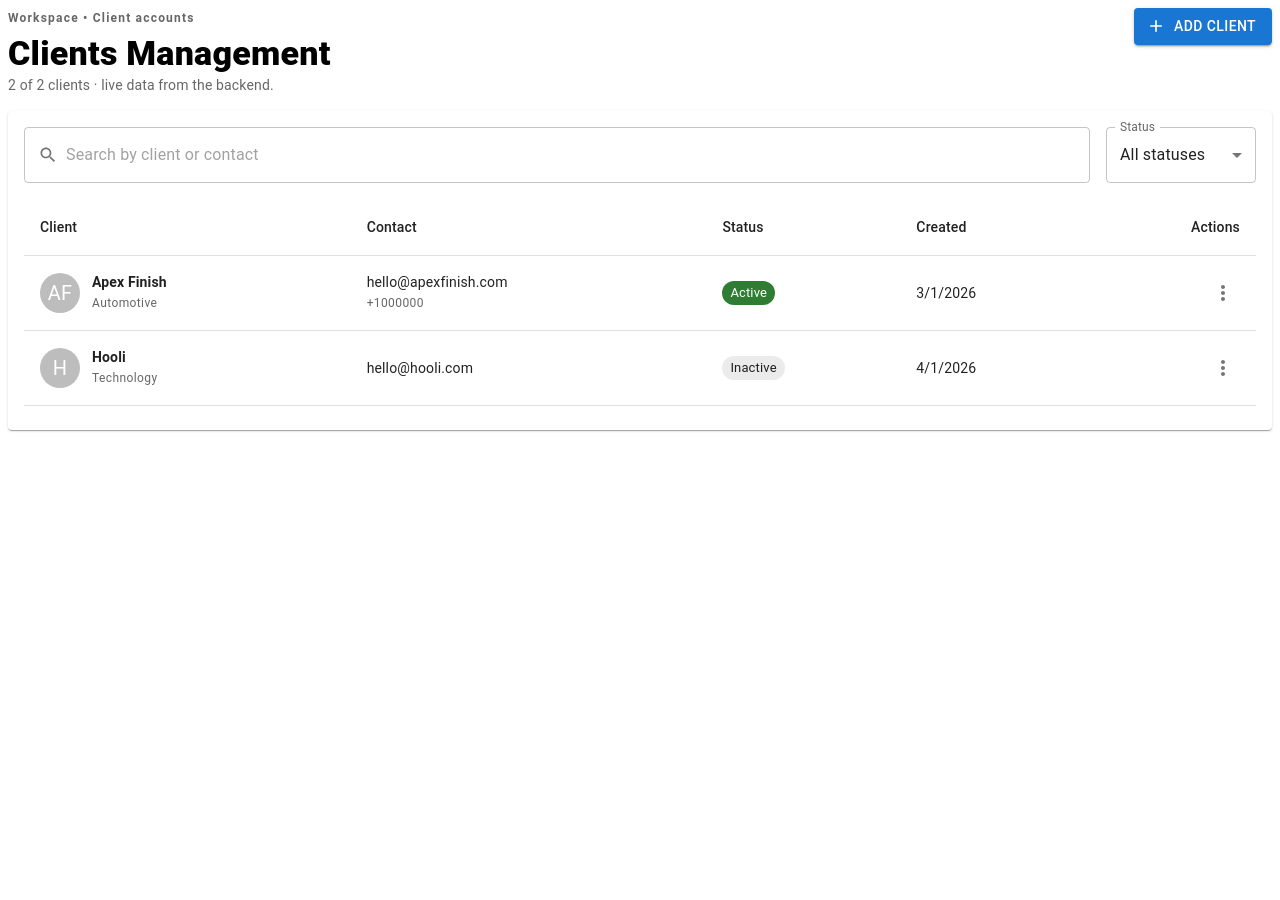
ClientsPage › creates a client through the API
Expected: the text "Apex Finish" is shown, [92,272,167,292]
Click the button "Add client" at {"x": 1203, "y": 26}, box [1134,8,1272,44]
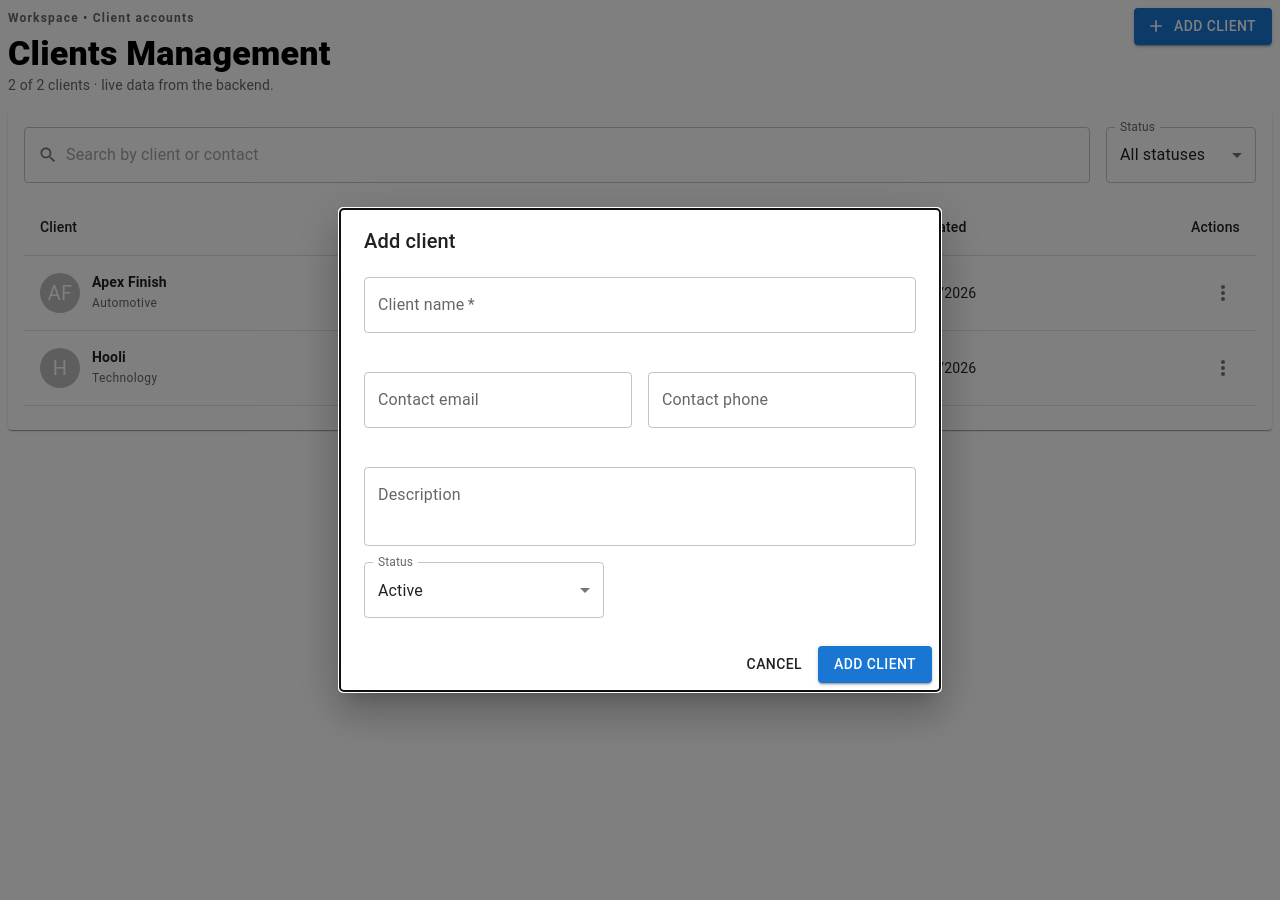
Type "NewCo" into the field labelled "Client name *" at {"x": 640, "y": 305}, box [364,277,916,333]
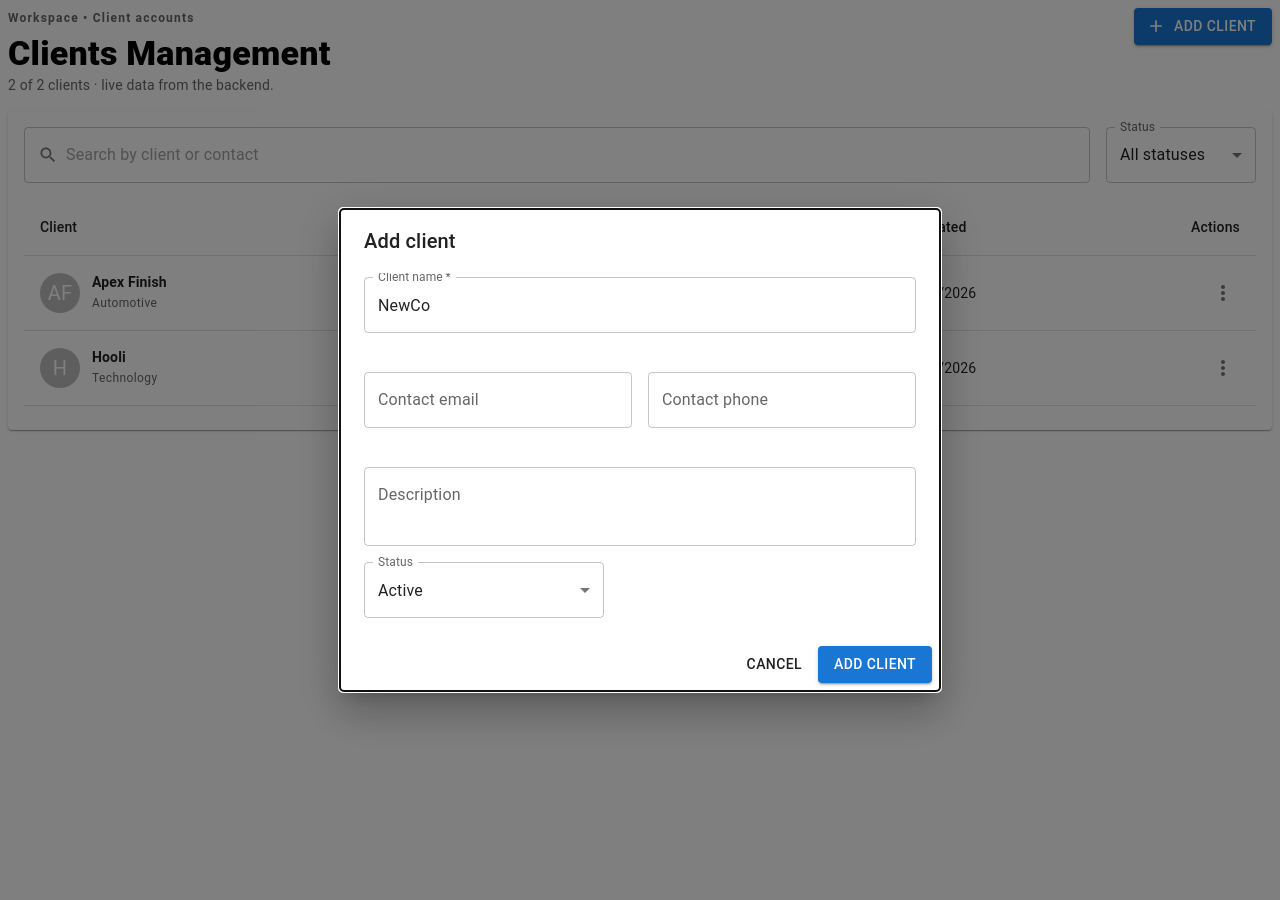
Type "hello@newco.com" into the field labelled "Contact email" at {"x": 498, "y": 400}, box [364,372,632,428]
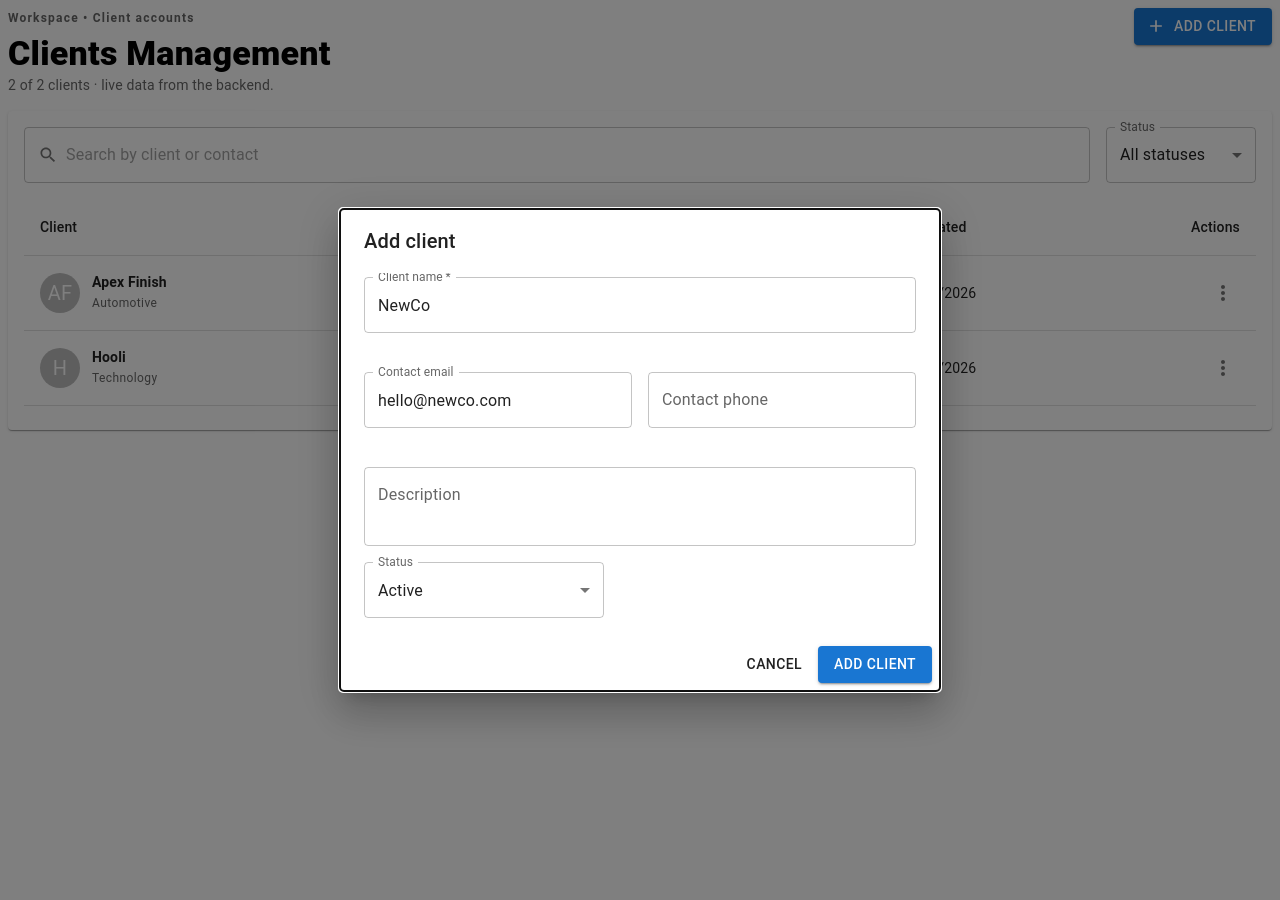
Click the button "Add client" at {"x": 875, "y": 664}, box [818,646,932,683]
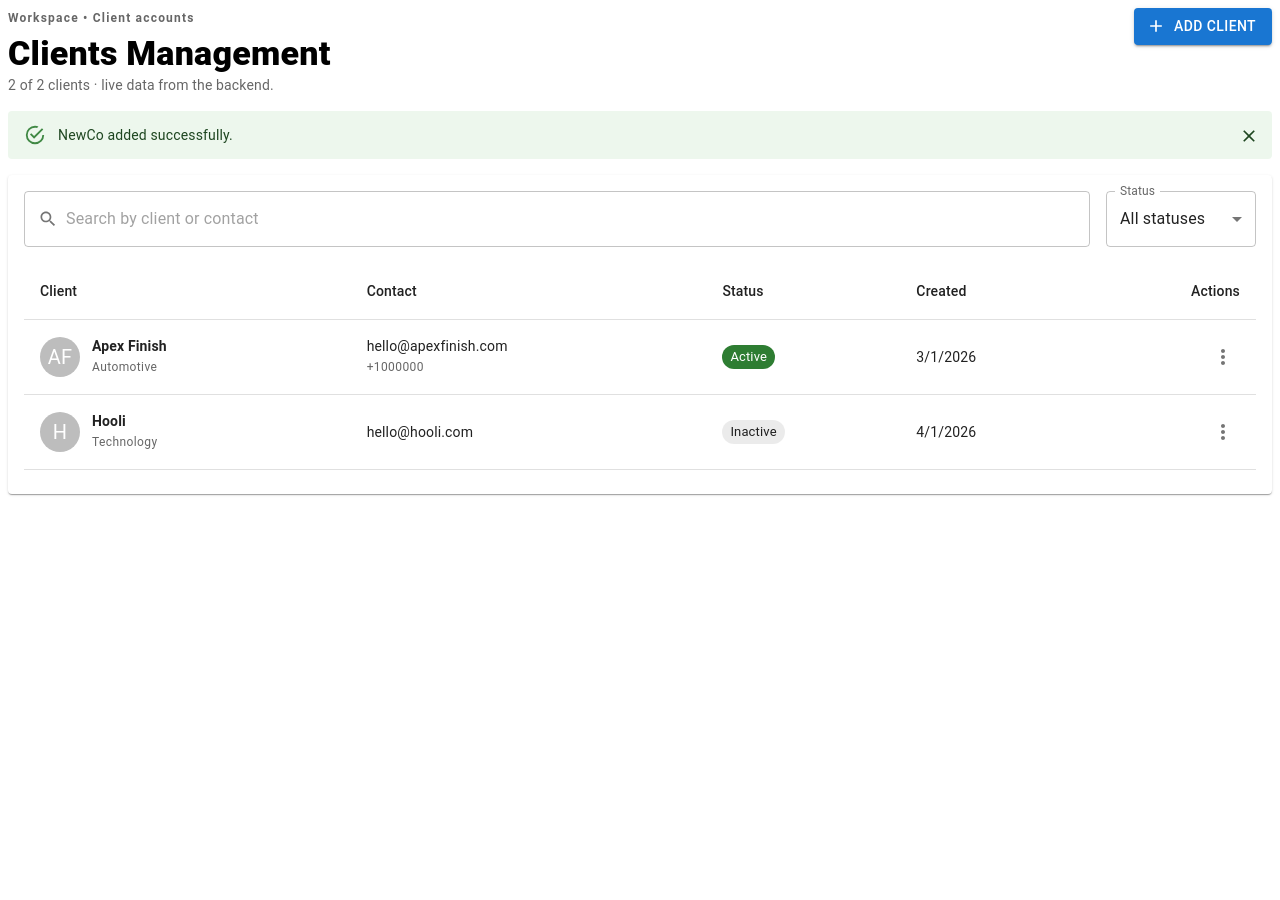
Result: the text "NewCo added successfully." is shown at [58,127,233,143]
